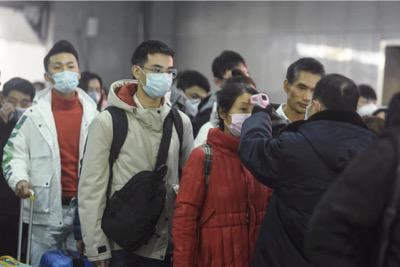with_mask: (226, 101, 258, 141), (140, 63, 174, 100), (47, 60, 79, 95), (4, 94, 30, 122), (183, 91, 209, 117), (357, 98, 379, 120), (87, 85, 101, 104)
without_mask: (289, 81, 316, 114)
